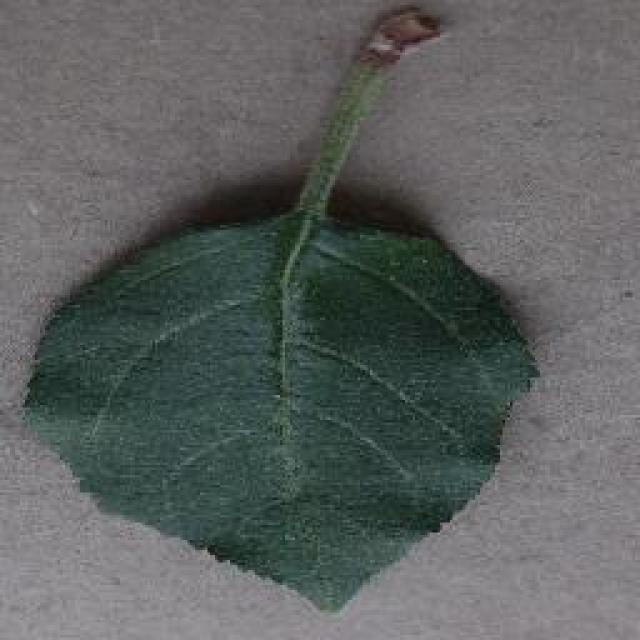apple healthy: (18, 0, 542, 615)
